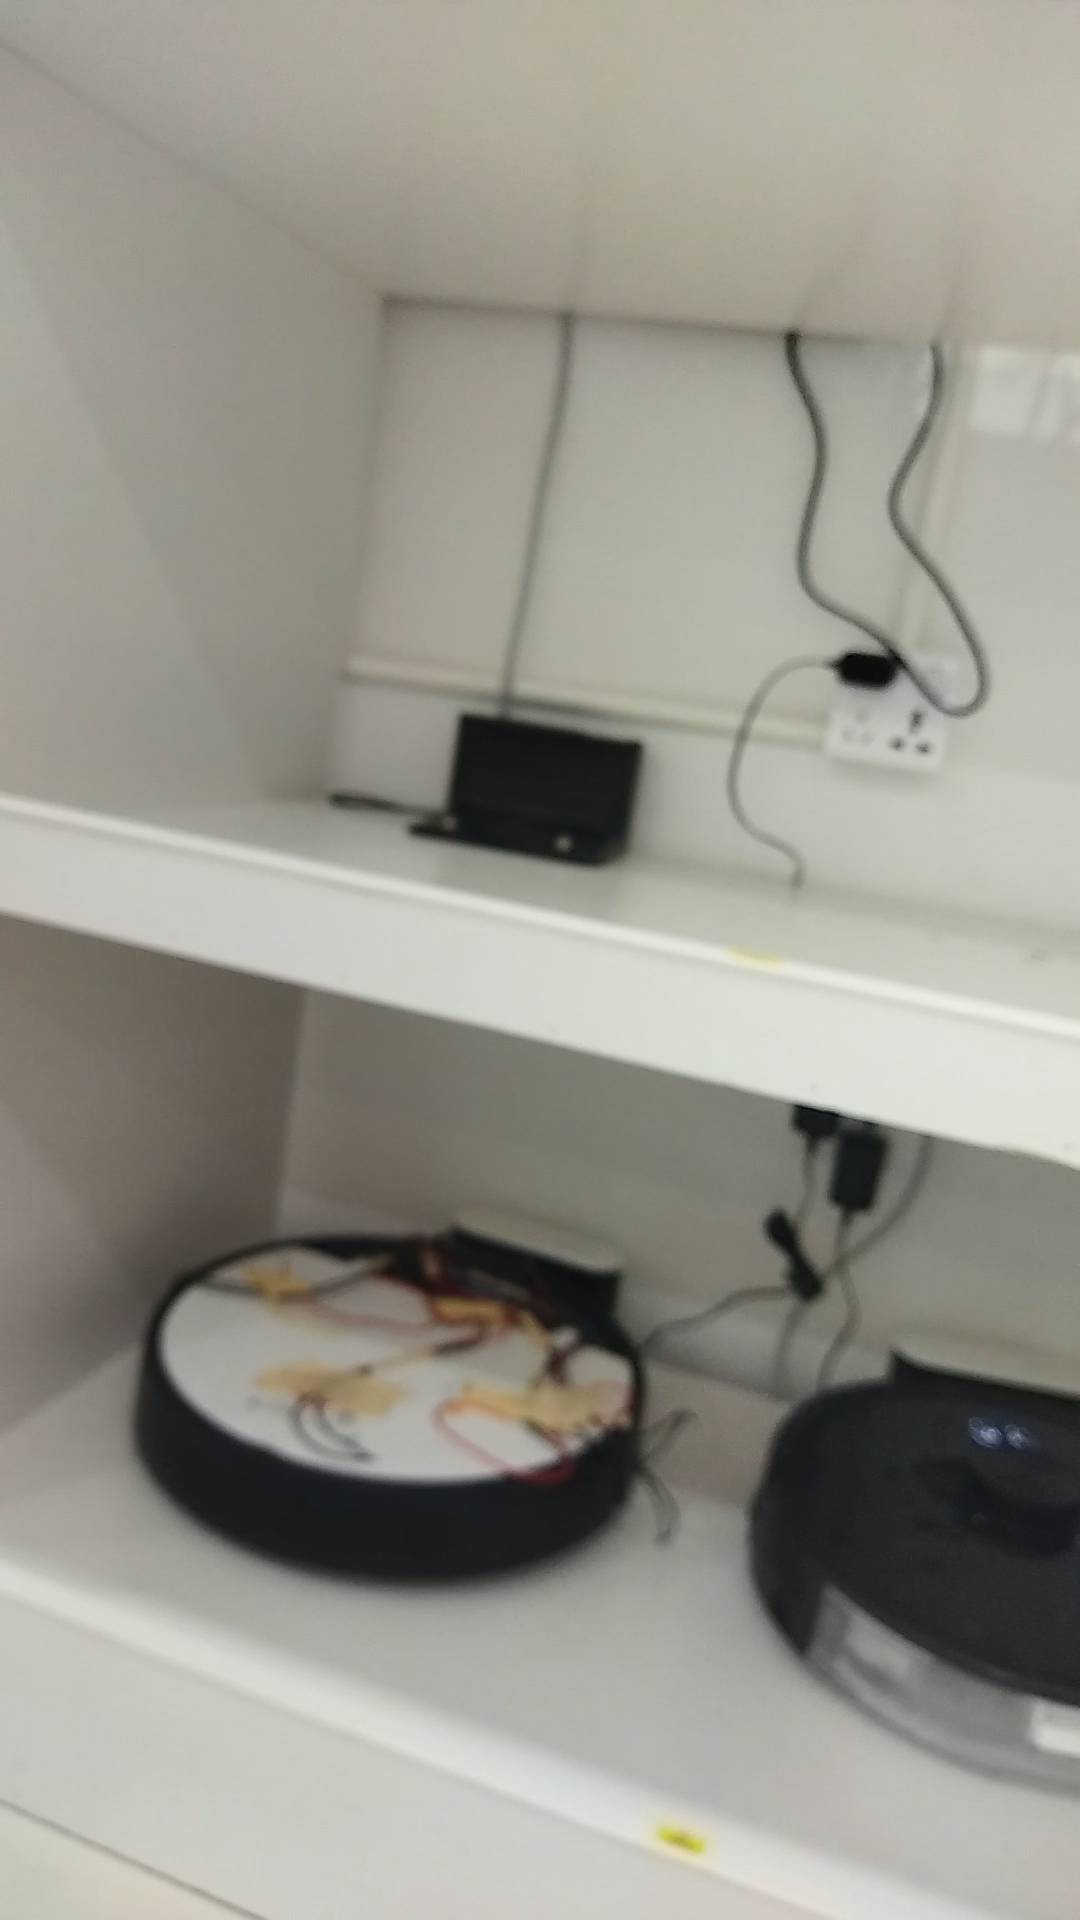recharge seat: (409, 705, 657, 874), (448, 1204, 637, 1313)
